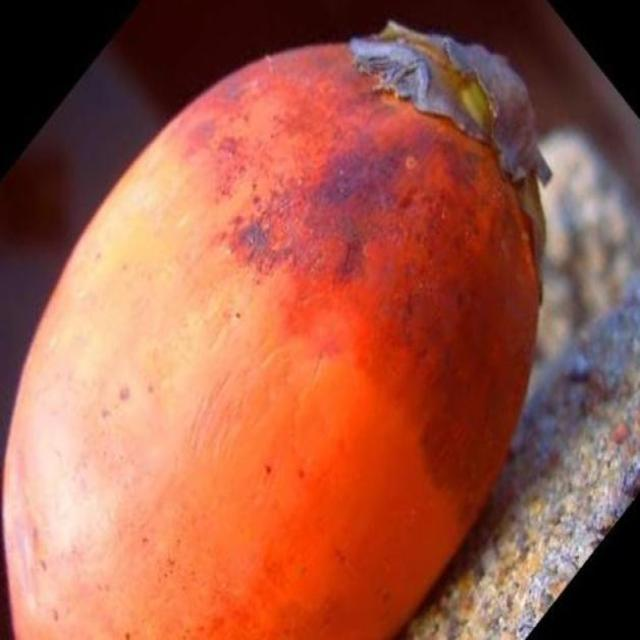good: (0, 22, 551, 639)
